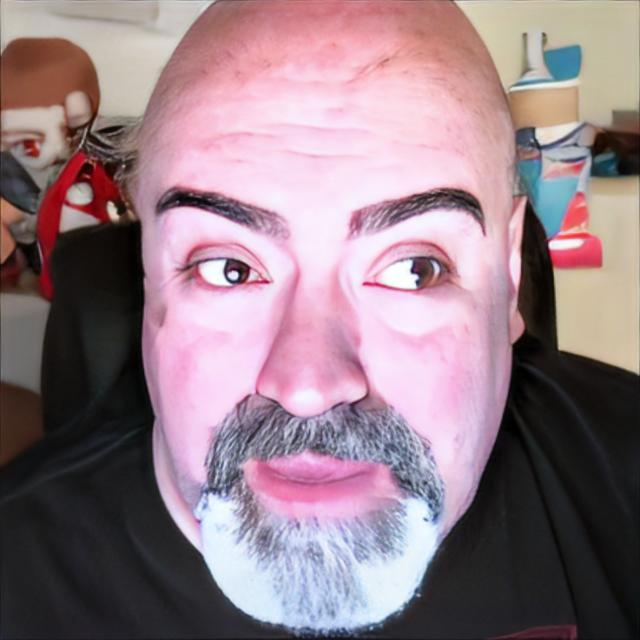surprise: (138, 3, 512, 630)
